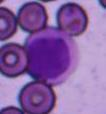L: (24, 26, 80, 85)
